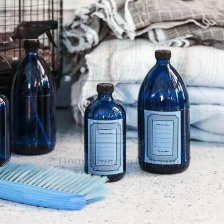bottle: (134, 47, 195, 179), (9, 38, 63, 156), (79, 81, 128, 185), (0, 90, 22, 171)
